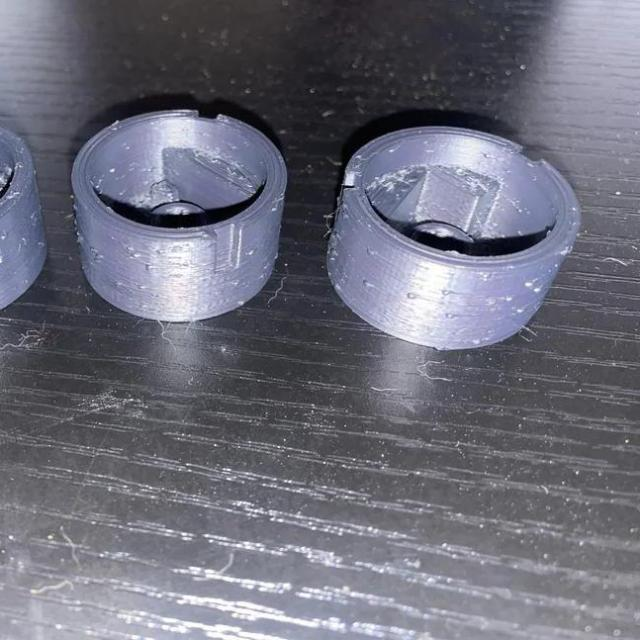zits: (359, 274, 374, 290), (404, 289, 420, 303), (110, 278, 126, 288), (522, 278, 536, 288), (530, 286, 544, 296), (439, 286, 452, 296), (92, 251, 103, 262), (365, 247, 375, 259), (442, 310, 452, 322), (136, 282, 148, 292), (132, 250, 142, 261), (144, 263, 154, 273)
